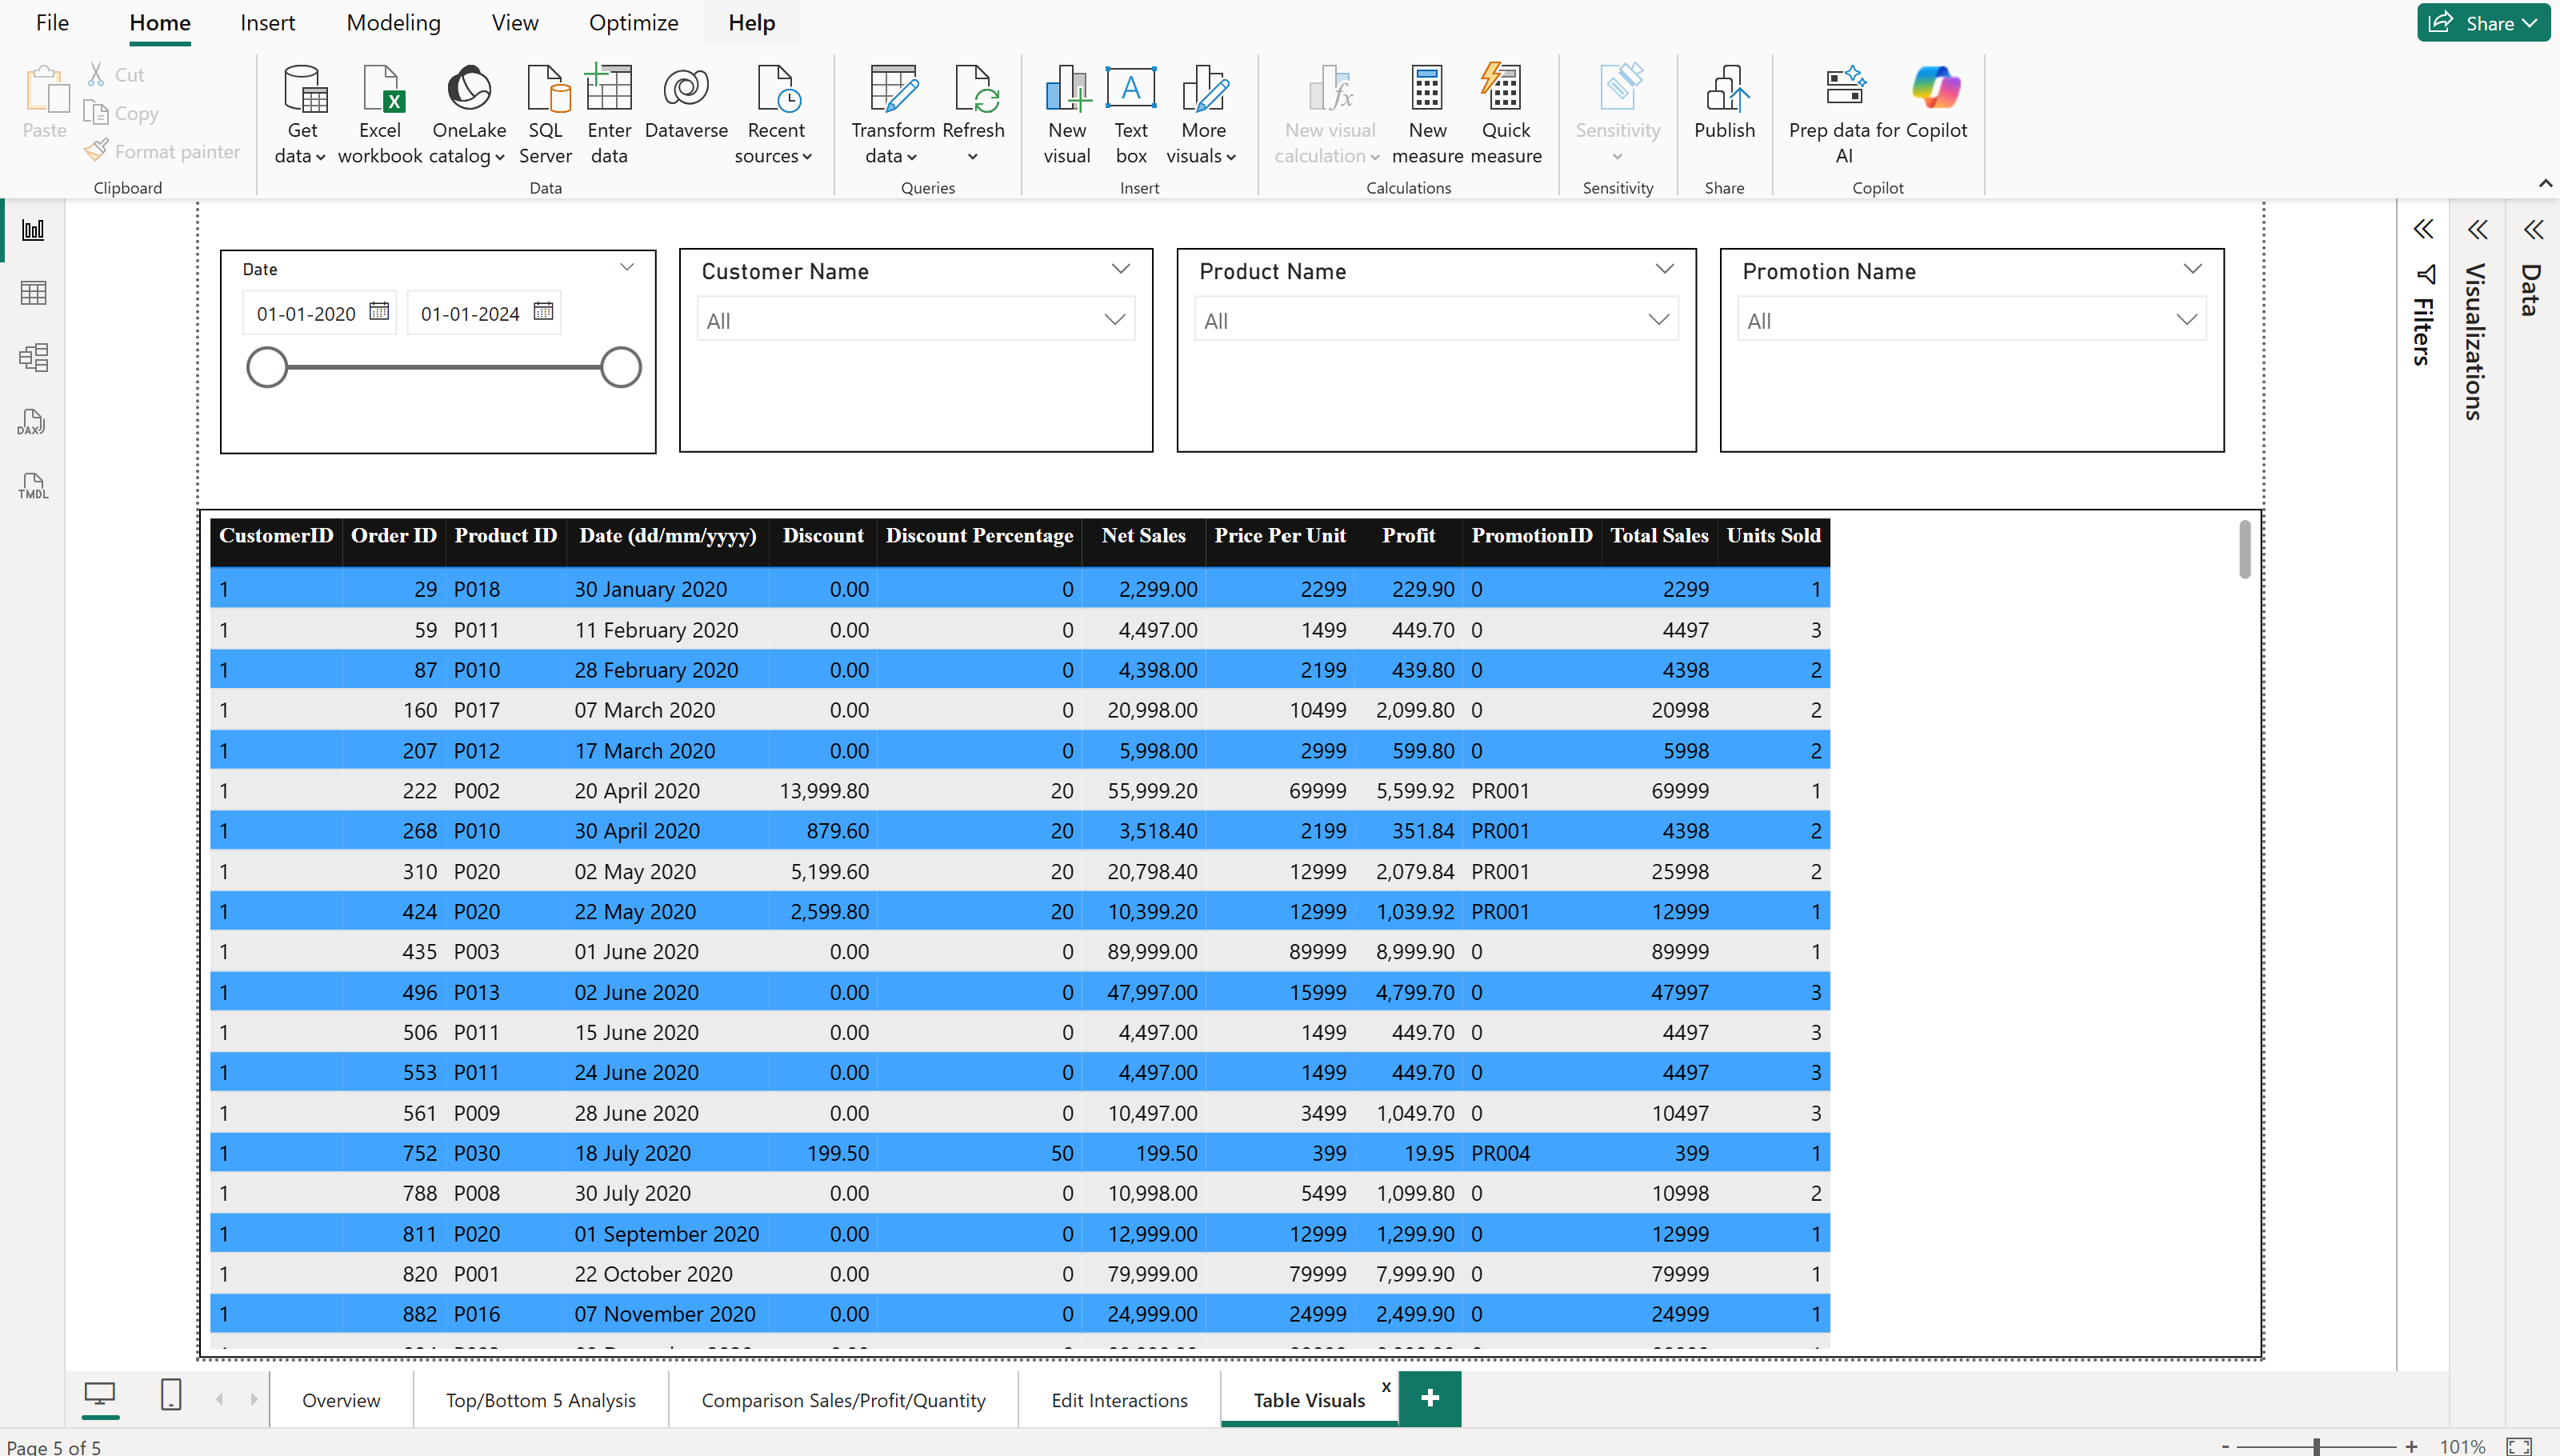

The page's visual inventory and layout, read from the dashboard file:
{"tool":"powerbi","page":{"name":"Table Visuals","canvas":[1280,720],"ordinal":4},"visuals":[{"type":"tableEx","fields":{"Values":["Fact Table.CustomerID","Fact Table.Order ID","Fact Table.Product ID","Fact Table.Date (dd/mm/yyyy)","Fact Table.Discount","Fact Table.Discount Percentage","Fact Table.Net Sales   ","Fact Table.Price Per Unit","Fact Table.Profit","Fact Table.PromotionID","Fact Table.Total Sales ","Fact Table.Units Sold"]},"box":[0,194.1,1280,526.9],"z":0},{"type":"slicer","fields":{"Values":["Date Table 1.Date"]},"box":[12.9,32.1,271.2,127.2],"z":1000},{"type":"slicer","fields":{"Values":["Dim Customers.Customer Name"]},"box":[298.2,30.8,294.3,127.2],"z":2000},{"type":"tableEx","fields":{"Values":["Fact Table.CustomerID","Fact Table.Order ID","Fact Table.Product ID","Fact Table.Date (dd/mm/yyyy)","Fact Table.Discount","Fact Table.Discount Percentage","Fact Table.Net Sales   ","Fact Table.Price Per Unit","Fact Table.Profit","Fact Table.PromotionID","Fact Table.Total Sales ","Fact Table.Units Sold"]},"box":[0,192.8,1280,526.9],"z":3000},{"type":"slicer","fields":{"Values":["Dim Product.Product Name"]},"box":[606.6,30.8,322.6,127.2],"z":4000},{"type":"slicer","fields":{"Values":["Dim Promotion.Promotion Name"]},"box":[943.3,30.8,313.6,127.2],"z":5000}]}

Visuals, with their boxes on the page's 1280x720 design canvas (x1, y1, x2, y2). These are canvas units, not pixel positions in the 2560x1456 screenshot, which may show the page scaled, cropped or inside an application window:
tableEx - Fact Table.CustomerID x Fact Table.Order ID: box=[0, 194, 1280, 721]
slicer - Date Table 1.Date: box=[13, 32, 284, 159]
slicer - Dim Customers.Customer Name: box=[298, 31, 592, 158]
tableEx - Fact Table.CustomerID x Fact Table.Order ID: box=[0, 193, 1280, 720]
slicer - Dim Product.Product Name: box=[607, 31, 929, 158]
slicer - Dim Promotion.Promotion Name: box=[943, 31, 1257, 158]
